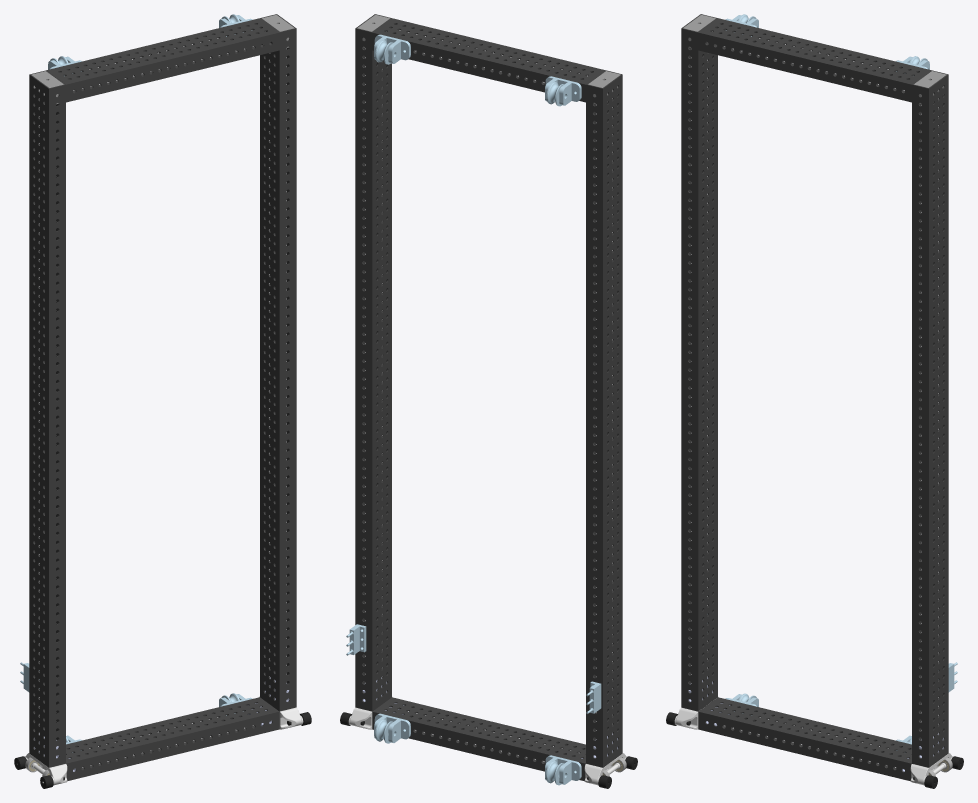
The picture shows the model from 3 angles, left to right: view 1: azimuth 30°, elevation 25°; view 2: azimuth 150°, elevation 25°; view 3: azimuth 330°, elevation 25°; orthographic projection.
Parts seen in each view (by area): view 1: 3467-25-A-0309 (×2), 3467-25-A-0301 (×2), SDS Elevator Block (×2); view 2: 3467-25-A-0309 (×2), 3467-25-A-0301 (×2), 4mm Dyneema Cable Pulley Bracket ELEV-PULLEY-001 (×4), SDS Elevator Block (×2); view 3: 3467-25-A-0309 (×2), 3467-25-A-0301 (×2), SDS Elevator Block (×2).
Part boxes in pixels (bbox=[...]): 3467-25-A-0309 (×2): bbox=[29, 14, 296, 767]; 3467-25-A-0301 (×2): bbox=[46, 18, 279, 780]; SDS Elevator Block (×2): bbox=[14, 696, 311, 788]; 3467-25-A-0309 (×2): bbox=[355, 14, 622, 767]; 3467-25-A-0301 (×2): bbox=[372, 18, 605, 781]; 4mm Dyneema Cable Pulley Bracket ELEV-PULLEY-001 (×4): bbox=[374, 34, 581, 784]; SDS Elevator Block (×2): bbox=[340, 696, 637, 788]; 3467-25-A-0309 (×2): bbox=[681, 14, 948, 767]; 3467-25-A-0301 (×2): bbox=[698, 18, 931, 781]; SDS Elevator Block (×2): bbox=[666, 696, 963, 788].
Bounding box in the file's own units: 0.395 × 0.9944 × 0.1015.
